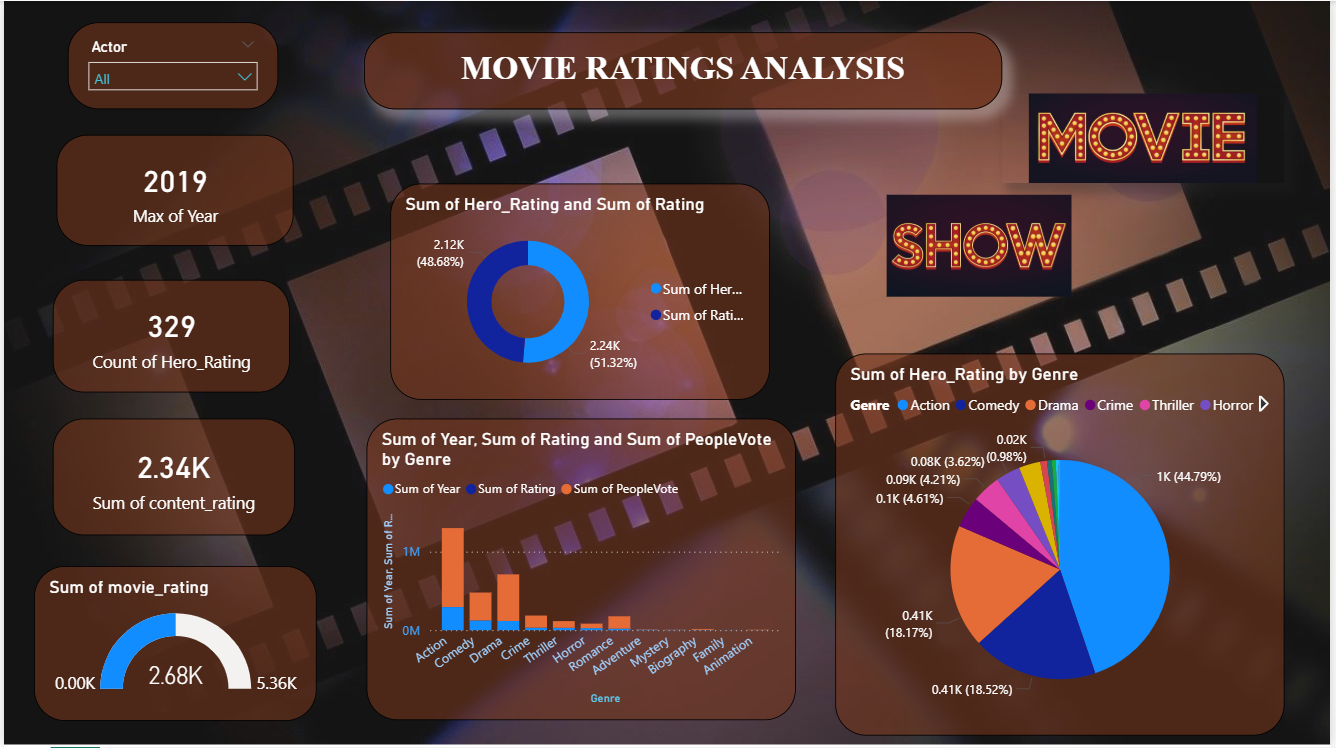

Layout of this report page (visuals, bound fields, positions):
{"tool":"powerbi","page":{"name":"Page 1","canvas":[1280,720],"ordinal":0},"visuals":[{"type":"pieChart","fields":{"Category":["thiru mba.Genre"],"Y":["thiru mba.Hero_Rating"]},"box":[802.7,340.3,433.6,369.1],"z":0},{"type":"card","fields":{"Values":["thiru mba.Hero_Rating"]},"box":[46.7,269,229.2,108.4],"z":1000},{"type":"slicer","fields":{"Values":["thiru mba.Actor"]},"box":[61.7,20.6,203.1,83.7],"z":2000},{"type":"card","fields":{"Values":["thiru mba.content_rating"]},"box":[46.7,403.4,233.3,112.5],"z":3000},{"type":"columnChart","fields":{"Y":["thiru mba.Year","thiru mba.Rating","thiru mba.PeopleVote"],"Category":["thiru mba.Genre"]},"box":[349.9,403.4,414.4,290.9],"z":4000},{"type":"donutChart","fields":{"Y":["thiru mba.Hero_Rating","thiru mba.Rating"]},"box":[373.2,175.6,366.4,208.6],"z":5000},{"type":"card","fields":{"Values":["thiru mba.Year"]},"box":[50.8,129,229.2,107],"z":6000},{"type":"gauge","fields":{"Y":["thiru mba.movie_rating"]},"box":[28.8,544.8,273.1,149.6],"z":7000},{"type":"image","box":[963.3,89.2,273.1,86.4],"z":8000},{"type":"image","box":[804.1,186.6,273.1,98.8],"z":9000},{"type":"textbox","box":[347.2,30.2,616.1,74.1],"z":10000}]}

Visuals, with their boxes in screenshot pixels (x1, y1, x2, y2), scaled from the page's 1280x720 canvas onto the 1336x748 screenshot:
pieChart - thiru mba.Genre x thiru mba.Hero_Rating: crop(838, 354, 1290, 737)
card - thiru mba.Hero_Rating: crop(49, 279, 288, 392)
slicer - thiru mba.Actor: crop(64, 21, 276, 108)
card - thiru mba.content_rating: crop(49, 419, 292, 536)
columnChart - thiru mba.Year x thiru mba.Rating: crop(365, 419, 798, 721)
donutChart - thiru mba.Hero_Rating x thiru mba.Rating: crop(390, 182, 772, 399)
card - thiru mba.Year: crop(53, 134, 292, 245)
gauge - thiru mba.movie_rating: crop(30, 566, 315, 721)
image: crop(1005, 93, 1290, 182)
image: crop(839, 194, 1124, 296)
textbox: crop(362, 31, 1005, 108)
